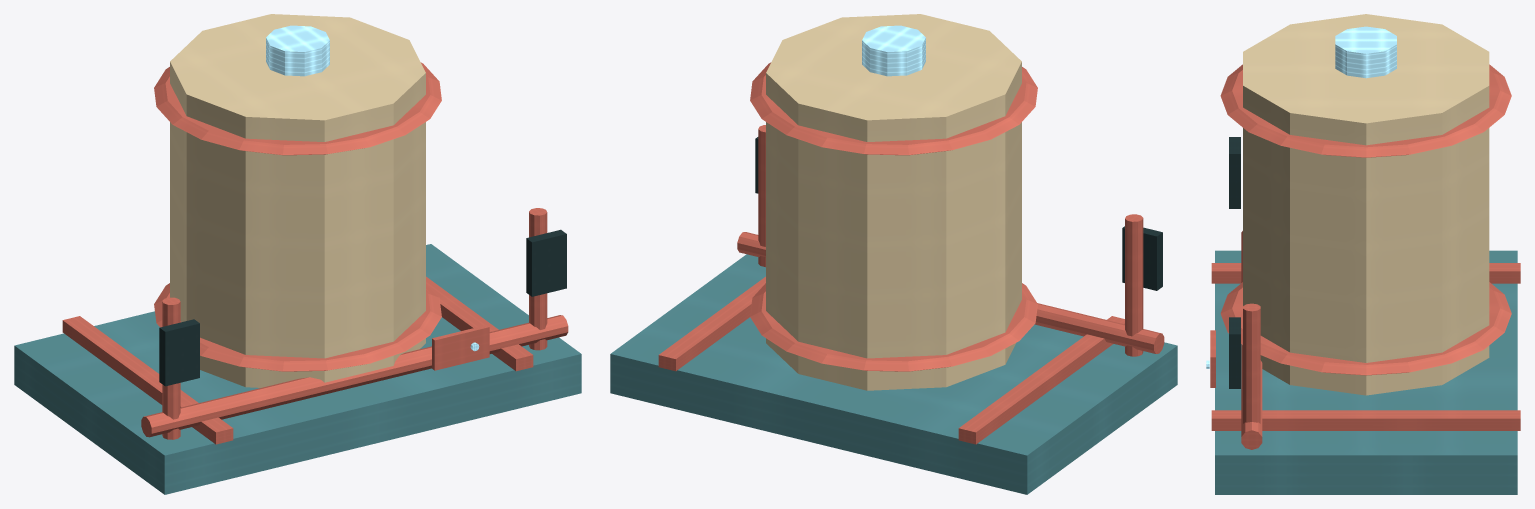
File: atlas100-s074-a04.lod1.glb
3 views of the same model, side by side, from view 1: azimuth 30°, elevation 25°; view 2: azimuth 150°, elevation 25°; view 3: azimuth 270°, elevation 25° (orthographic).
Visible parts, largest first — view 1: atlas100-s074-a04:part-003, atlas100-s074-a04:part-000, atlas100-s074-a04:part-011, atlas100-s074-a04:part-005, atlas100-s074-a04:part-004, atlas100-s074-a04:part-001, atlas100-s074-a04:part-006, atlas100-s074-a04:part-008, atlas100-s074-a04:part-010, atlas100-s074-a04:part-002, atlas100-s074-a04:part-012, atlas100-s074-a04:part-007 (+1 smaller); view 2: atlas100-s074-a04:part-003, atlas100-s074-a04:part-000, atlas100-s074-a04:part-005, atlas100-s074-a04:part-004, atlas100-s074-a04:part-001, atlas100-s074-a04:part-011, atlas100-s074-a04:part-006, atlas100-s074-a04:part-002, atlas100-s074-a04:part-007, atlas100-s074-a04:part-008, atlas100-s074-a04:part-009; view 3: atlas100-s074-a04:part-003, atlas100-s074-a04:part-000, atlas100-s074-a04:part-002, atlas100-s074-a04:part-005, atlas100-s074-a04:part-004, atlas100-s074-a04:part-006, atlas100-s074-a04:part-009, atlas100-s074-a04:part-001, atlas100-s074-a04:part-011, atlas100-s074-a04:part-008, atlas100-s074-a04:part-010.
Part boxes in pixels (bbox=[...]): atlas100-s074-a04:part-003: bbox=[170, 14, 425, 387]; atlas100-s074-a04:part-000: bbox=[14, 244, 581, 494]; atlas100-s074-a04:part-011: bbox=[141, 315, 568, 437]; atlas100-s074-a04:part-005: bbox=[154, 62, 441, 155]; atlas100-s074-a04:part-004: bbox=[154, 283, 441, 371]; atlas100-s074-a04:part-001: bbox=[62, 316, 233, 444]; atlas100-s074-a04:part-006: bbox=[266, 25, 329, 76]; atlas100-s074-a04:part-008: bbox=[159, 319, 199, 386]; atlas100-s074-a04:part-010: bbox=[526, 229, 566, 296]; atlas100-s074-a04:part-002: bbox=[426, 276, 533, 371]; atlas100-s074-a04:part-012: bbox=[432, 325, 489, 370]; atlas100-s074-a04:part-007: bbox=[162, 297, 180, 439]; atlas100-s074-a04:part-003: bbox=[766, 14, 1021, 390]; atlas100-s074-a04:part-000: bbox=[610, 254, 1177, 494]; atlas100-s074-a04:part-005: bbox=[750, 62, 1037, 155]; atlas100-s074-a04:part-004: bbox=[750, 283, 1037, 371]; atlas100-s074-a04:part-001: bbox=[958, 316, 1124, 444]; atlas100-s074-a04:part-011: bbox=[737, 232, 1164, 353]; atlas100-s074-a04:part-006: bbox=[862, 25, 925, 76]; atlas100-s074-a04:part-002: bbox=[658, 276, 765, 371]; atlas100-s074-a04:part-007: bbox=[1125, 214, 1143, 356]; atlas100-s074-a04:part-008: bbox=[1122, 226, 1162, 290]; atlas100-s074-a04:part-009: bbox=[758, 125, 765, 267]; atlas100-s074-a04:part-003: bbox=[1243, 14, 1489, 395]; atlas100-s074-a04:part-000: bbox=[1215, 250, 1517, 494]; atlas100-s074-a04:part-002: bbox=[1211, 410, 1520, 430]; atlas100-s074-a04:part-005: bbox=[1220, 64, 1511, 157]; atlas100-s074-a04:part-004: bbox=[1220, 282, 1511, 375]; atlas100-s074-a04:part-006: bbox=[1335, 26, 1396, 78]; atlas100-s074-a04:part-009: bbox=[1243, 303, 1260, 423]; atlas100-s074-a04:part-001: bbox=[1211, 263, 1520, 283]; atlas100-s074-a04:part-011: bbox=[1241, 231, 1262, 449]; atlas100-s074-a04:part-008: bbox=[1229, 137, 1240, 208]; atlas100-s074-a04:part-010: bbox=[1229, 317, 1240, 388].
Size of the model in its own units: 2.88 by 2.31 by 1.87.
5 materials, 5 textured.
